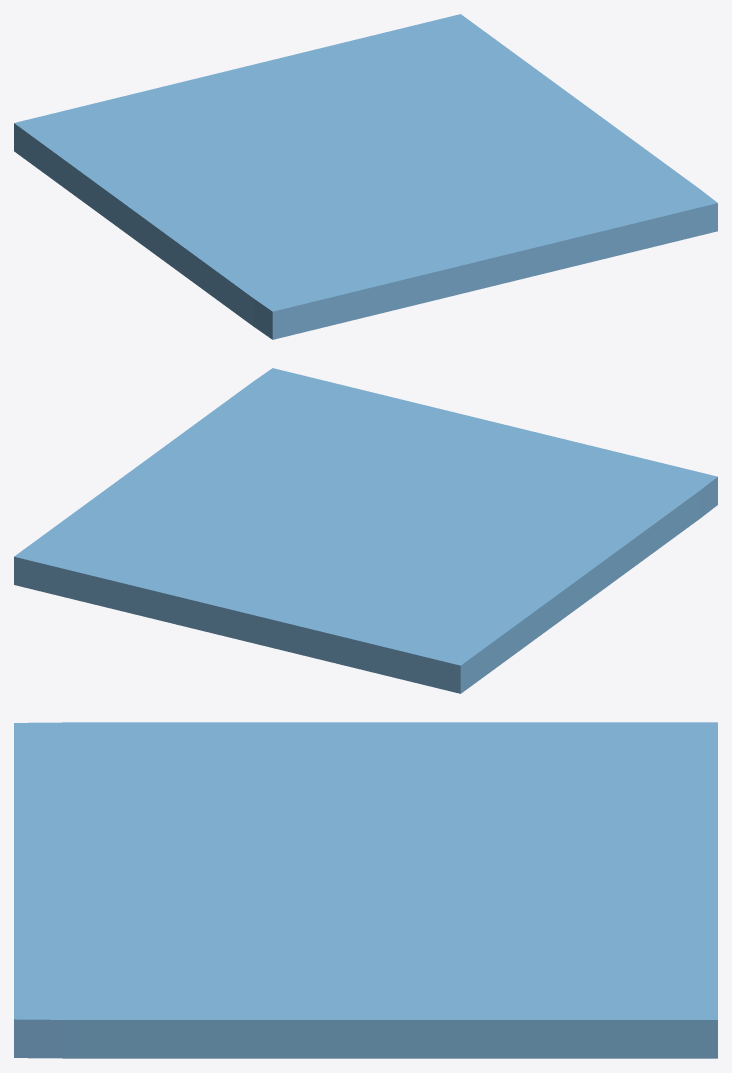
The model's file is street_empty_water.glb.
3 views of the same model, one above another, from view 1: azimuth 30°, elevation 25°; view 2: azimuth 150°, elevation 25°; view 3: azimuth 270°, elevation 25° (orthographic). The views are drawn at different scales.
Parts seen in each view (by area): view 1: Street_Water; view 2: Street_Water; view 3: Street_Water.
Part boxes in pixels (x1,y1,x2,y2): Street_Water: (14,14,717,339); Street_Water: (14,368,717,693); Street_Water: (14,722,717,1058).
Size of the model in its own units: 8 by 0.4835 by 8.
